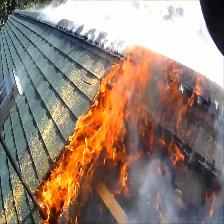fire: (43, 163, 77, 206), (77, 120, 106, 156), (104, 85, 125, 115)
smoke: (70, 3, 193, 39), (134, 166, 173, 224)
